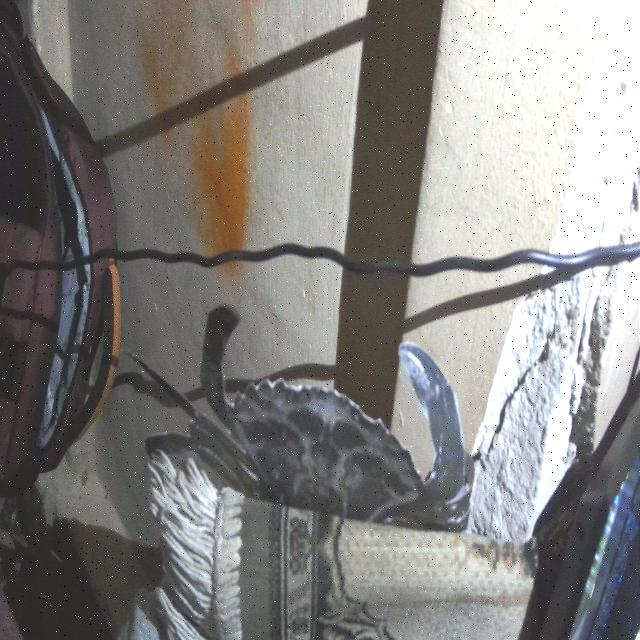European_Green_Crab: (188, 301, 481, 529)
